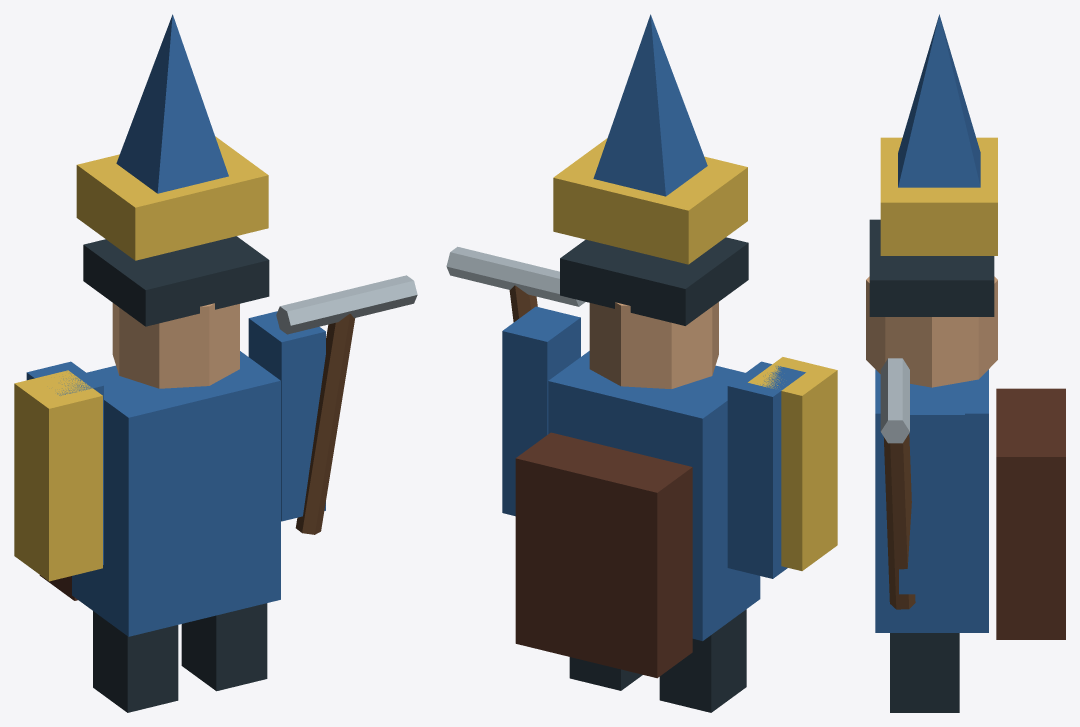
File: worker.obj
3 renders of one model, left to right at view 1: azimuth 30°, elevation 25°; view 2: azimuth 150°, elevation 25°; view 3: azimuth 270°, elevation 25°, orthographic.
Visible parts, largest first — view 1: worker; view 2: worker; view 3: worker.
Part boxes in pixels (left/top/right/bottom): worker: left=14, top=14, right=417, bottom=712; worker: left=446, top=14, right=837, bottom=712; worker: left=866, top=14, right=1065, bottom=712.
Bounding box in the file's own units: 1.17 × 2 × 0.545.
